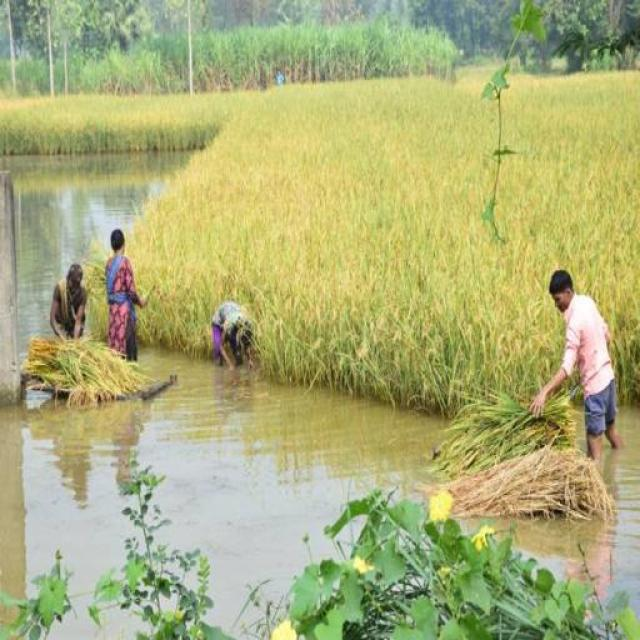puddle: (9, 439, 353, 538), (178, 373, 292, 523), (304, 394, 429, 494), (9, 156, 146, 216)
